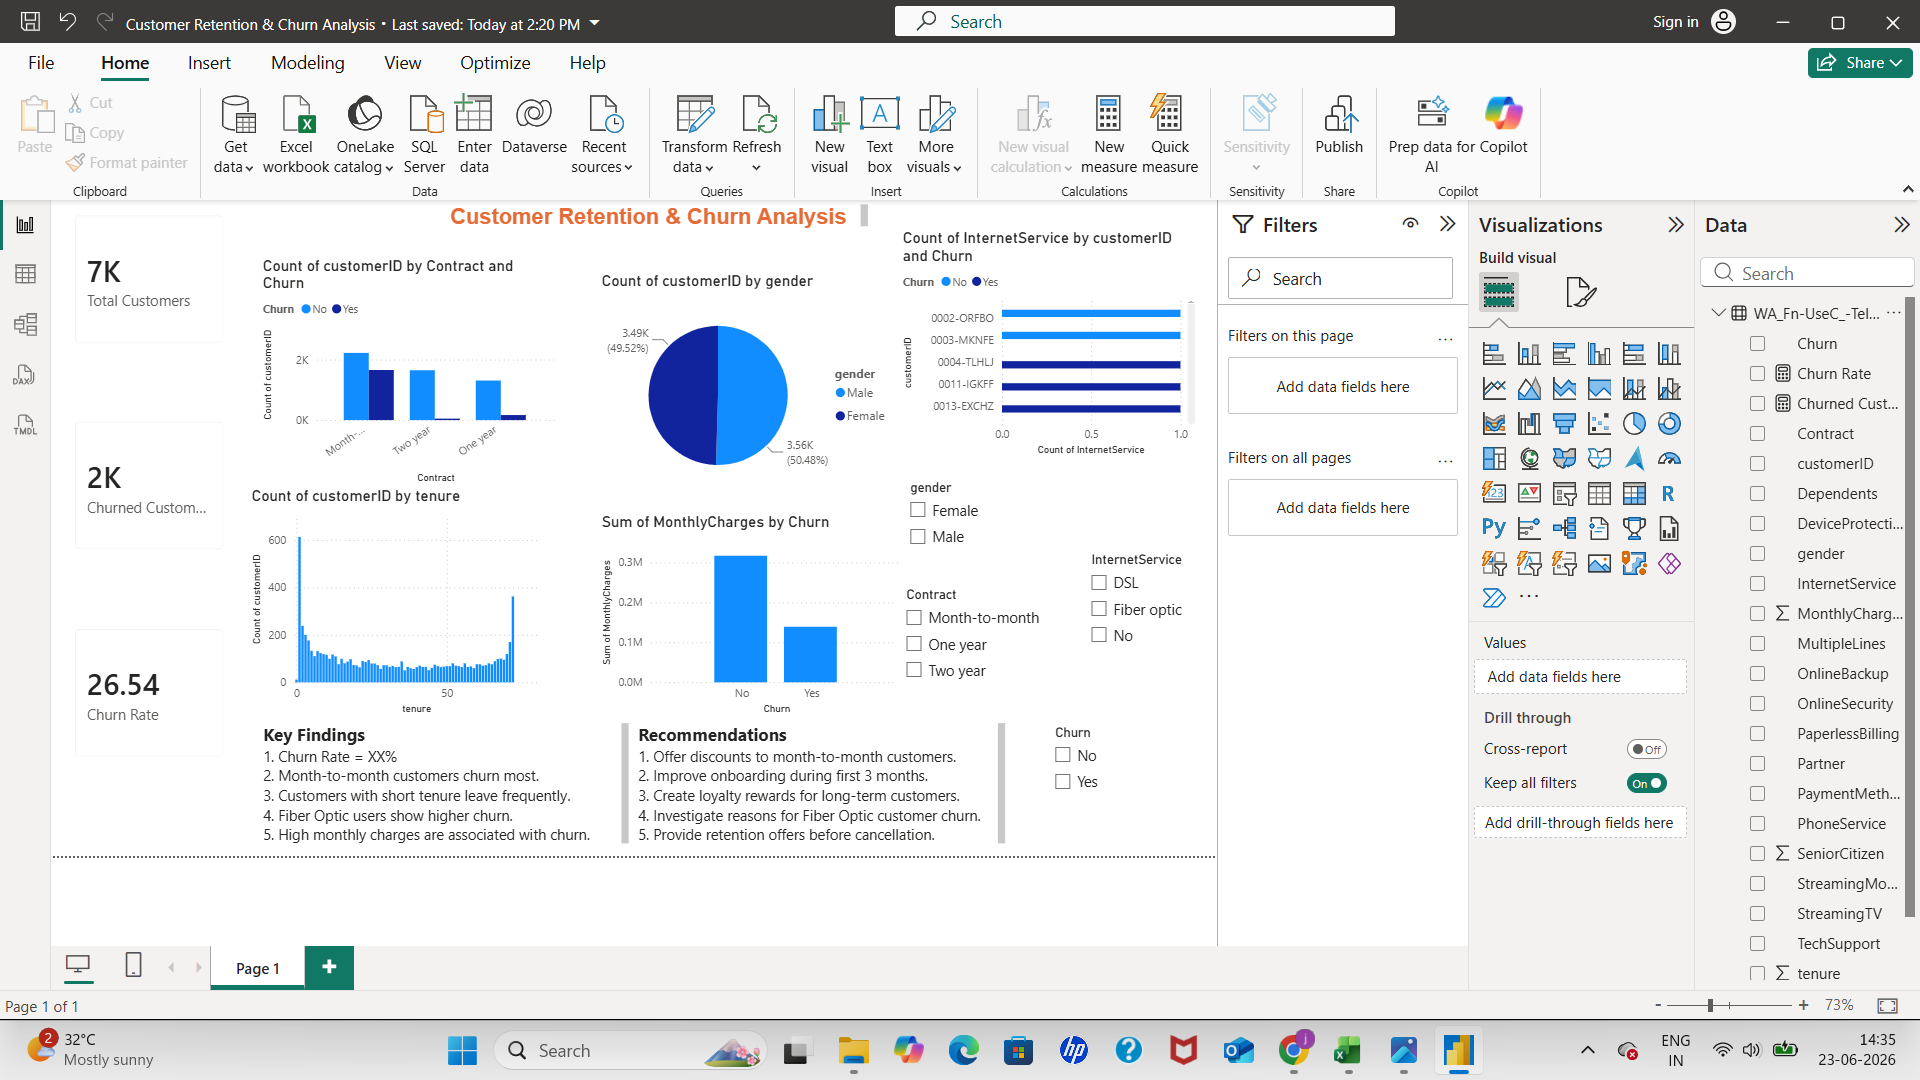

The dashboard page shown, as its layout file describes it:
{"tool":"powerbi","page":{"name":"Page 1","canvas":[1280,720],"ordinal":0},"visuals":[{"type":"cardVisual","fields":{"Data":["WA_Fn-UseC_-Telco-Customer-Churn.Total Customers"]},"box":[9.6,0,196.2,174.3],"z":0},{"type":"cardVisual","fields":{"Data":["WA_Fn-UseC_-Telco-Customer-Churn.Churned Customers"]},"box":[10,227,196,174],"z":1000},{"type":"cardVisual","fields":{"Data":["WA_Fn-UseC_-Telco-Customer-Churn.Churn Rate"]},"box":[10,454,196,174],"z":2000},{"type":"clusteredColumnChart","fields":{"Category":["WA_Fn-UseC_-Telco-Customer-Churn.Contract"],"Series":["WA_Fn-UseC_-Telco-Customer-Churn.Churn"],"Y":["CountNonNull(WA_Fn-UseC_-Telco-Customer-Churn.customerID)"]},"box":[258,19.2,330.7,253.9],"z":3000},{"type":"pieChart","fields":{"Category":["WA_Fn-UseC_-Telco-Customer-Churn.gender"],"Y":["CountNonNull(WA_Fn-UseC_-Telco-Customer-Churn.customerID)"]},"box":[599,19,331,254],"z":4000},{"type":"clusteredBarChart","fields":{"Y":["CountNonNull(WA_Fn-UseC_-Telco-Customer-Churn.InternetService)"],"Series":["WA_Fn-UseC_-Telco-Customer-Churn.Churn"],"Category":["WA_Fn-UseC_-Telco-Customer-Churn.customerID"]},"box":[940,19,331,254],"z":5000},{"type":"columnChart","fields":{"Category":["WA_Fn-UseC_-Telco-Customer-Churn.tenure"],"Y":["CountNonNull(WA_Fn-UseC_-Telco-Customer-Churn.customerID)"]},"box":[258,286,331,254],"z":6000},{"type":"clusteredColumnChart","fields":{"Category":["WA_Fn-UseC_-Telco-Customer-Churn.Churn"],"Y":["Sum(WA_Fn-UseC_-Telco-Customer-Churn.MonthlyCharges)"]},"box":[599,286,331,254],"z":7000},{"type":"slicer","fields":{"Values":["WA_Fn-UseC_-Telco-Customer-Churn.gender"]},"box":[940,285.4,179.8,115.3],"z":8000},{"type":"slicer","fields":{"Values":["WA_Fn-UseC_-Telco-Customer-Churn.Contract"]},"box":[940,400,180,150],"z":9000},{"type":"slicer","fields":{"Values":["WA_Fn-UseC_-Telco-Customer-Churn.InternetService"]},"box":[1119.7,343.1,150.9,150.9],"z":10000},{"type":"textbox","box":[258,540.7,381.5,149.6],"z":11000},{"type":"textbox","box":[639.5,540.7,410.3,150.9],"z":12000},{"type":"slicer","fields":{"Values":["WA_Fn-UseC_-Telco-Customer-Churn.Churn"]},"box":[1119.7,540.7,150.9,115.3],"z":13000}]}

Visuals, with their boxes on the page's 1280x720 design canvas (x1, y1, x2, y2). These are canvas units, not pixel positions in the 1920x1080 screenshot, which may show the page scaled, cropped or inside an application window:
cardVisual - WA_Fn-UseC_-Telco-Customer-Churn.Total Customers: [x1=10, y1=0, x2=206, y2=174]
cardVisual - WA_Fn-UseC_-Telco-Customer-Churn.Churned Customers: [x1=10, y1=227, x2=206, y2=401]
cardVisual - WA_Fn-UseC_-Telco-Customer-Churn.Churn Rate: [x1=10, y1=454, x2=206, y2=628]
clusteredColumnChart - WA_Fn-UseC_-Telco-Customer-Churn.Contract x WA_Fn-UseC_-Telco-Customer-Churn.Churn: [x1=258, y1=19, x2=589, y2=273]
pieChart - WA_Fn-UseC_-Telco-Customer-Churn.gender x CountNonNull(WA_Fn-UseC_-Telco-Customer-Churn.customerID): [x1=599, y1=19, x2=930, y2=273]
clusteredBarChart - CountNonNull(WA_Fn-UseC_-Telco-Customer-Churn.InternetService) x WA_Fn-UseC_-Telco-Customer-Churn.Churn: [x1=940, y1=19, x2=1271, y2=273]
columnChart - WA_Fn-UseC_-Telco-Customer-Churn.tenure x CountNonNull(WA_Fn-UseC_-Telco-Customer-Churn.customerID): [x1=258, y1=286, x2=589, y2=540]
clusteredColumnChart - WA_Fn-UseC_-Telco-Customer-Churn.Churn x Sum(WA_Fn-UseC_-Telco-Customer-Churn.MonthlyCharges): [x1=599, y1=286, x2=930, y2=540]
slicer - WA_Fn-UseC_-Telco-Customer-Churn.gender: [x1=940, y1=285, x2=1120, y2=401]
slicer - WA_Fn-UseC_-Telco-Customer-Churn.Contract: [x1=940, y1=400, x2=1120, y2=550]
slicer - WA_Fn-UseC_-Telco-Customer-Churn.InternetService: [x1=1120, y1=343, x2=1271, y2=494]
textbox: [x1=258, y1=541, x2=640, y2=690]
textbox: [x1=640, y1=541, x2=1050, y2=692]
slicer - WA_Fn-UseC_-Telco-Customer-Churn.Churn: [x1=1120, y1=541, x2=1271, y2=656]
